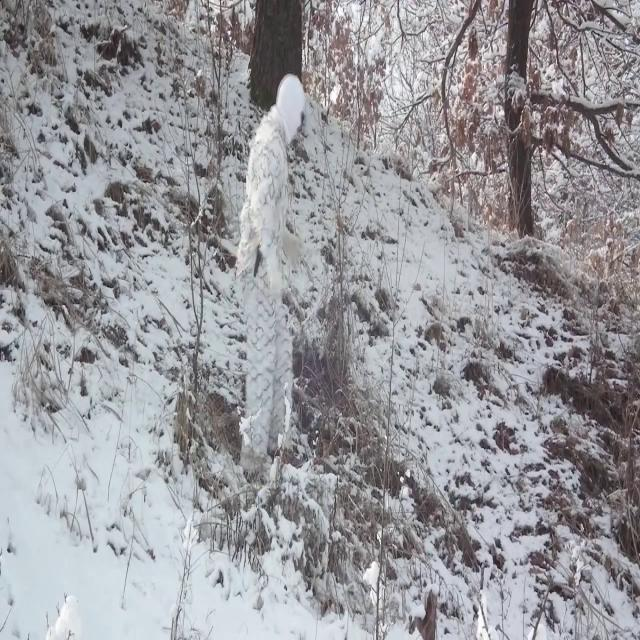Camouflage: (230, 72, 310, 481)
